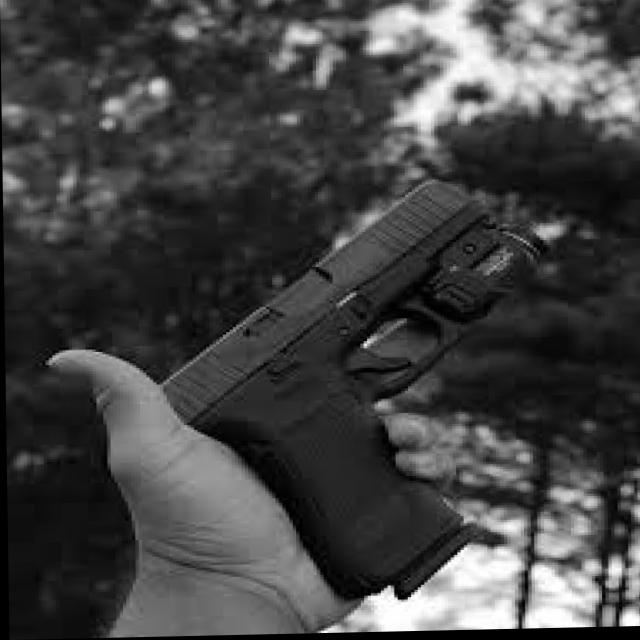handgun: (137, 180, 552, 606)
